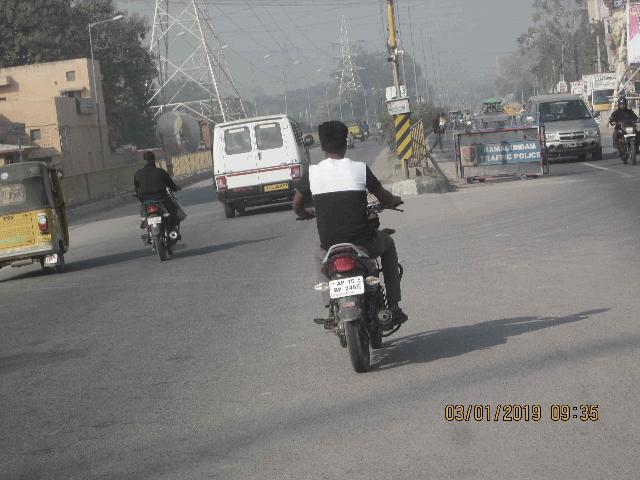motor: (295, 194, 407, 377), (133, 187, 186, 264)
non-helm: (319, 121, 351, 162), (144, 153, 158, 170)
